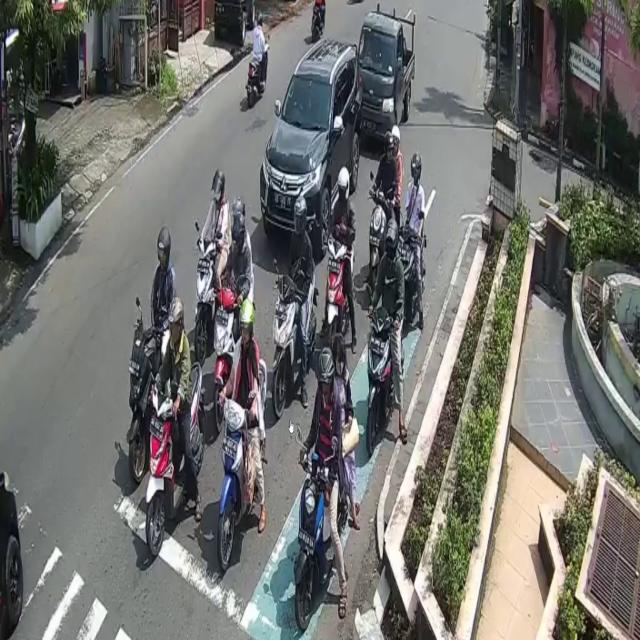bus: (147, 360, 203, 562), (220, 356, 268, 562), (272, 264, 316, 432), (128, 321, 162, 487), (300, 450, 331, 631), (365, 307, 394, 459), (194, 226, 216, 357), (327, 240, 352, 349), (246, 48, 268, 108)
motorcycle: (261, 38, 363, 250), (356, 11, 414, 138)
